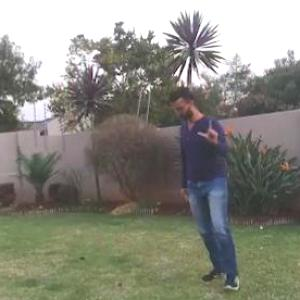land_hand: (195, 112, 227, 147)
